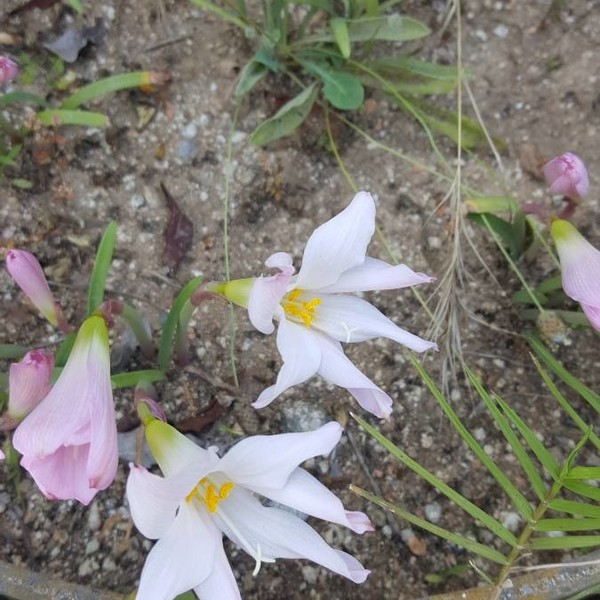obstacle: (34, 241, 442, 583)
